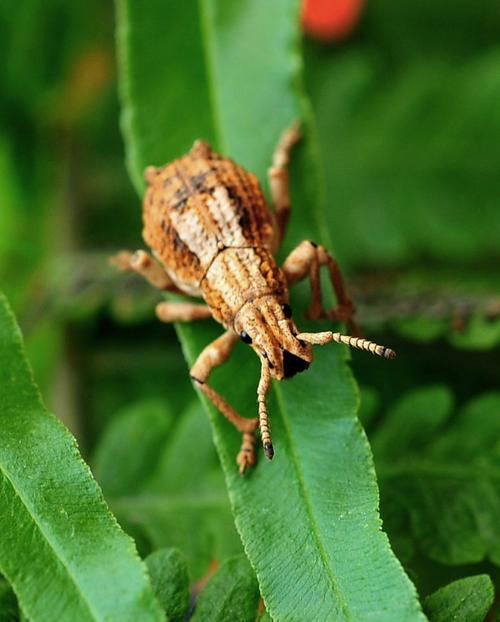Curculionidae: (105, 115, 397, 475)
